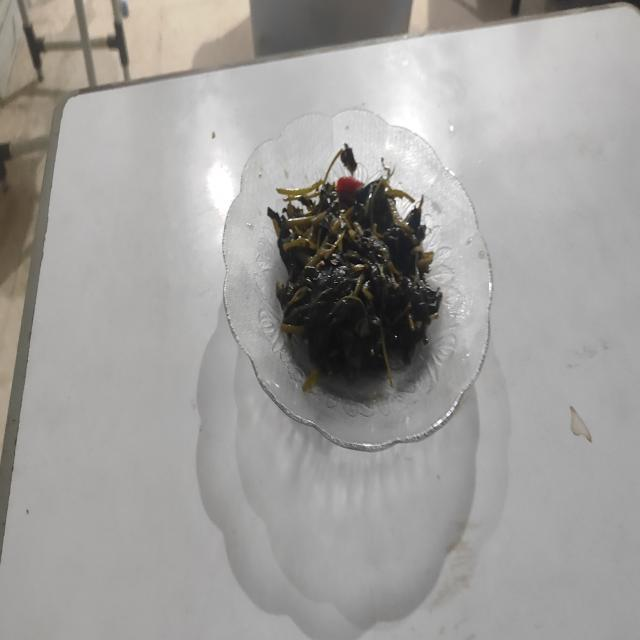tumis_kangkung: (267, 144, 442, 390)
